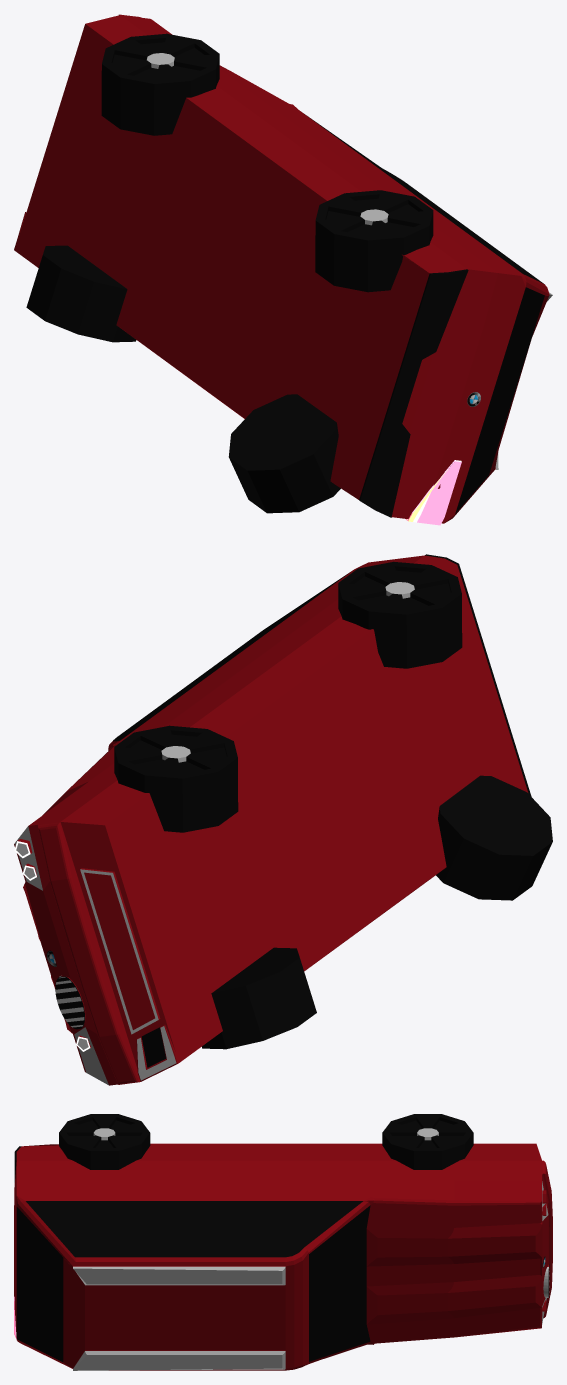
File: BMW Knocked over.glb
The picture shows the model from 3 angles, top to bottom: view 1: azimuth 30°, elevation 25°; view 2: azimuth 150°, elevation 25°; view 3: azimuth 270°, elevation 25°; orthographic projection. The views are drawn at different scales.
Parts seen in each view (by area): view 1: BMW body.001; view 2: BMW body.001; view 3: BMW body.001.
Part boxes in pixels (bbox=[...]): BMW body.001: bbox=[14, 14, 552, 525]; BMW body.001: bbox=[14, 554, 552, 1085]; BMW body.001: bbox=[14, 1114, 552, 1370].
Size of the model in its own units: 2.54 by 2.24 by 5.32.
9 materials, 1 textured.
